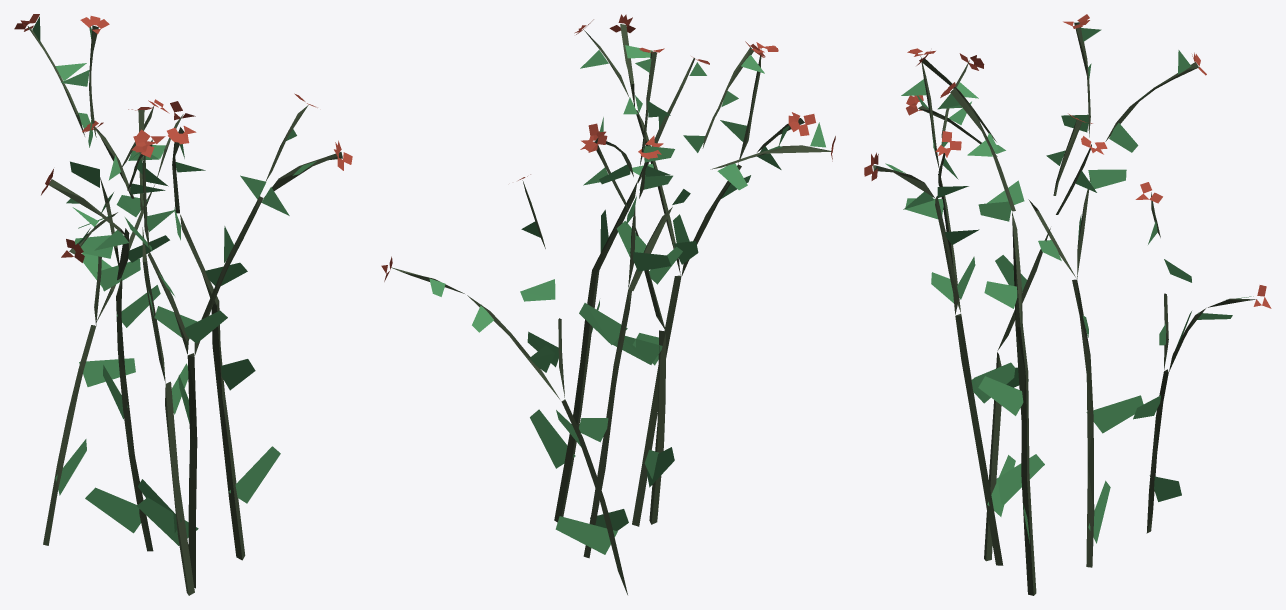
File: FlowerTrialRed.fbx
The picture shows the model from 3 angles, left to right: view 1: azimuth 30°, elevation 25°; view 2: azimuth 150°, elevation 25°; view 3: azimuth 270°, elevation 25°; orthographic projection. The views are drawn at different scales.
Visible parts, largest first — view 1: flowerTallRed1Main, flowerTallRed1Leaf, flowerTallRed1Flower; view 2: flowerTallRed1Leaf, flowerTallRed1Main, flowerTallRed1Flower; view 3: flowerTallRed1Main, flowerTallRed1Leaf, flowerTallRed1Flower.
Boxes of the visible parts, x1=… form: flowerTallRed1Main: x1=27, y1=25, x2=342, y2=595; flowerTallRed1Leaf: x1=32, y1=16, x2=316, y2=545; flowerTallRed1Flower: x1=14, y1=14, x2=352, y2=262; flowerTallRed1Leaf: x1=429, y1=45, x2=825, y2=554; flowerTallRed1Main: x1=391, y1=24, x2=831, y2=594; flowerTallRed1Flower: x1=381, y1=14, x2=835, y2=281; flowerTallRed1Main: x1=873, y1=22, x2=1256, y2=595; flowerTallRed1Leaf: x1=885, y1=28, x2=1253, y2=543; flowerTallRed1Flower: x1=864, y1=14, x2=1271, y2=308.
Size of the model in its own units: 1.17 by 2 by 1.42.
